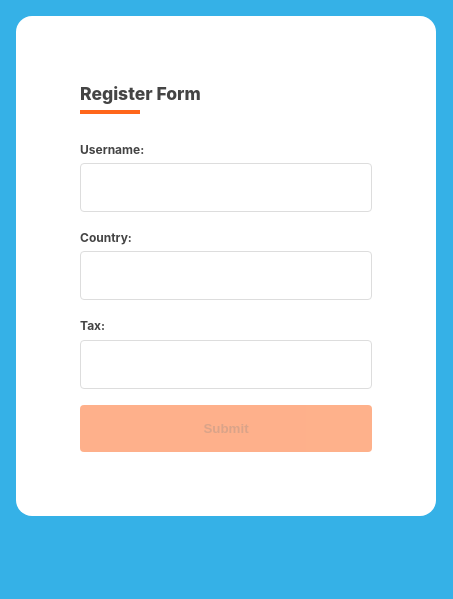
it: Register Form › Form Submission › Should show error if API fails
Type "Sarab" into the field named "username" below "Username:" at (226, 188), box [80,163,372,212]
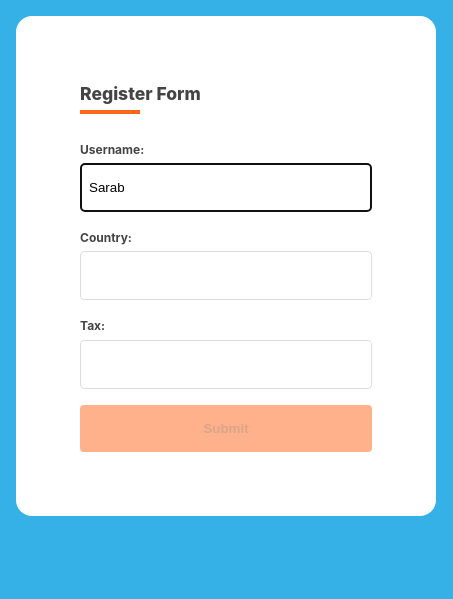
Type "India" into the field named "country" below "Country:" at (226, 276), box [80,251,372,300]
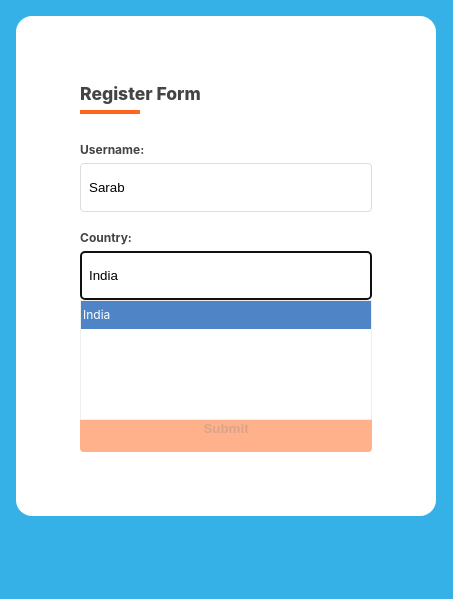
Click the list item "India" at (226, 315), box [81,301,371,328]
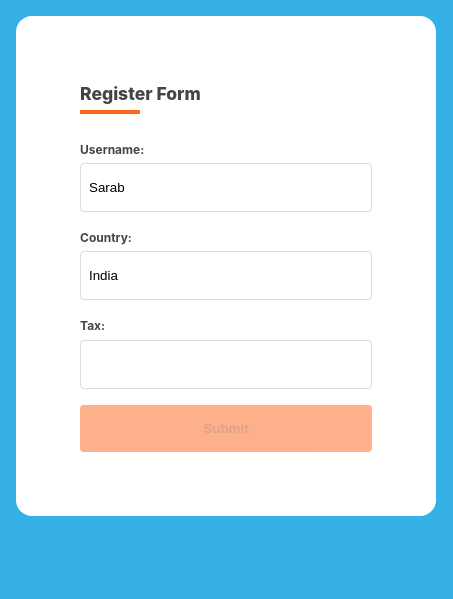
Type "DVDPS5219L" into the field named "tax" below "Tax:" at (226, 365), box [80,340,372,389]
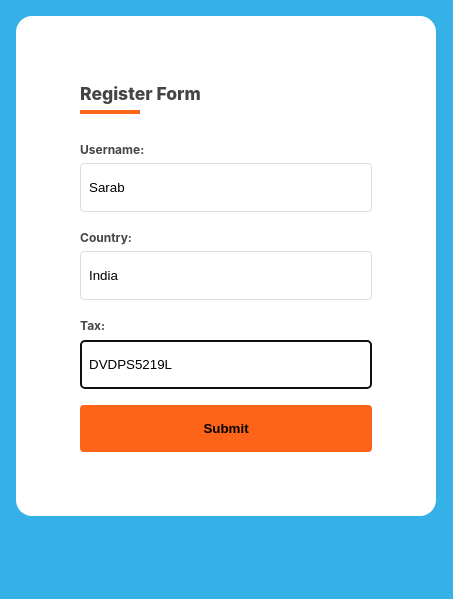
Click the button with id "submitButton" at (226, 429), box [80,405,372,452]
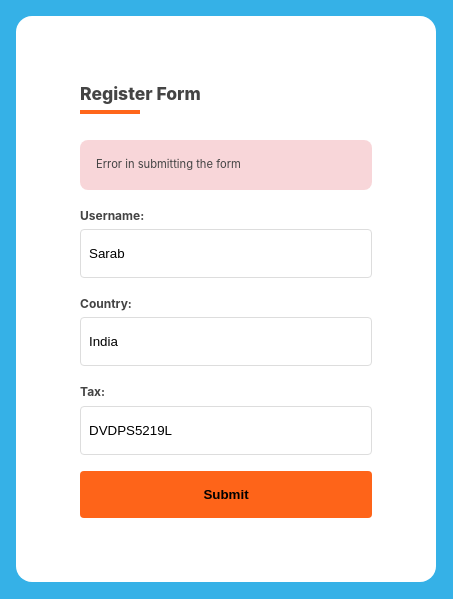
Check: the text "Error in submitting the form" is shown, box [80,140,372,190]
